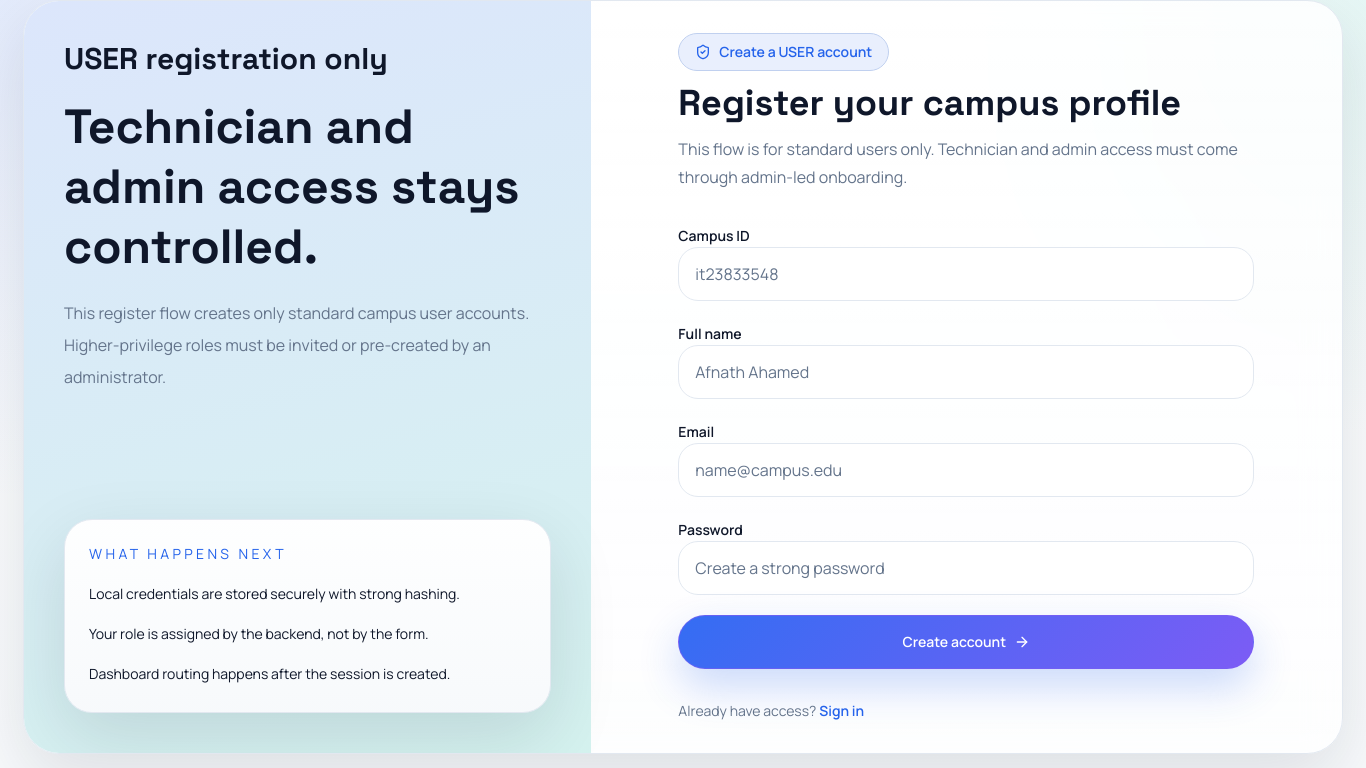
Test: auth pages › blocks weak passwords before register submission
Type "user123" into the field labelled "Campus ID" at (966,274), box [678,247,1254,301]
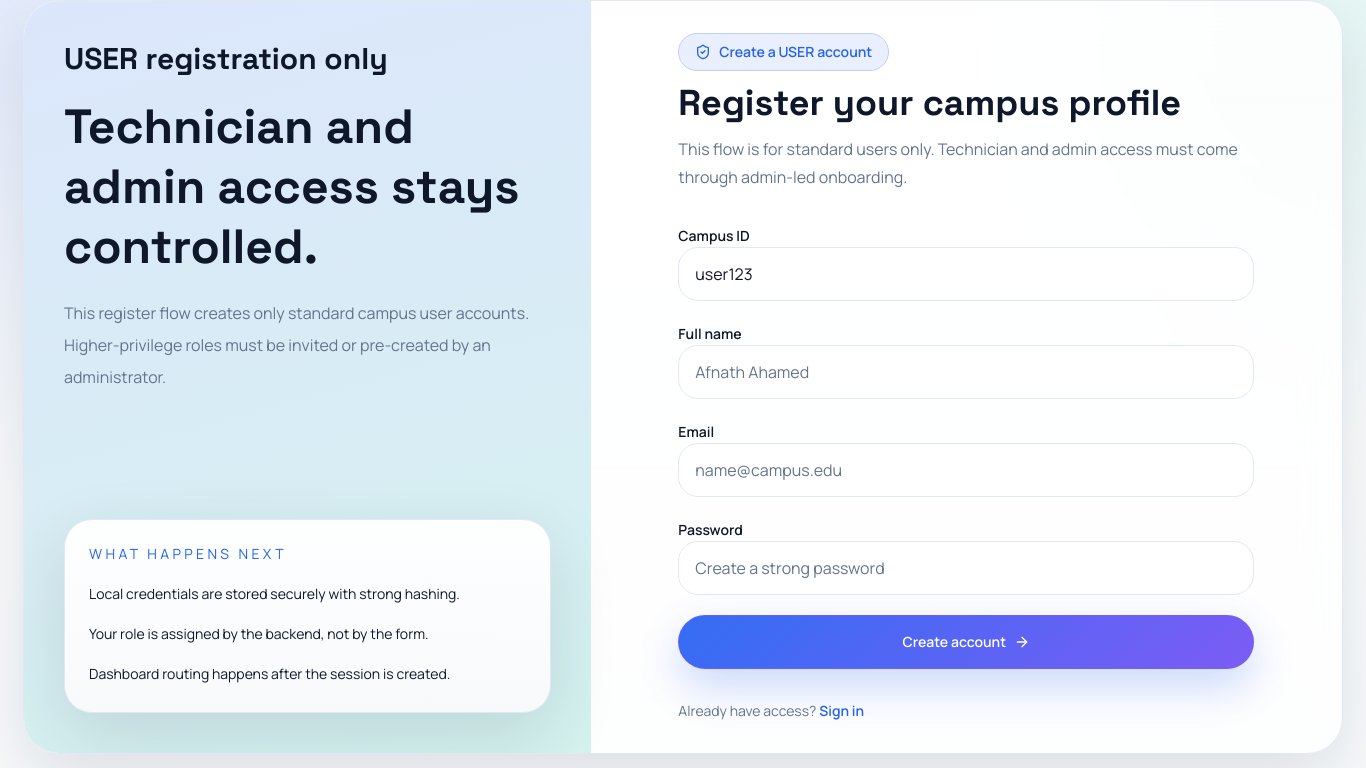
Type "Campus User" into the field labelled "Full name" at (966,372), box [678,345,1254,399]
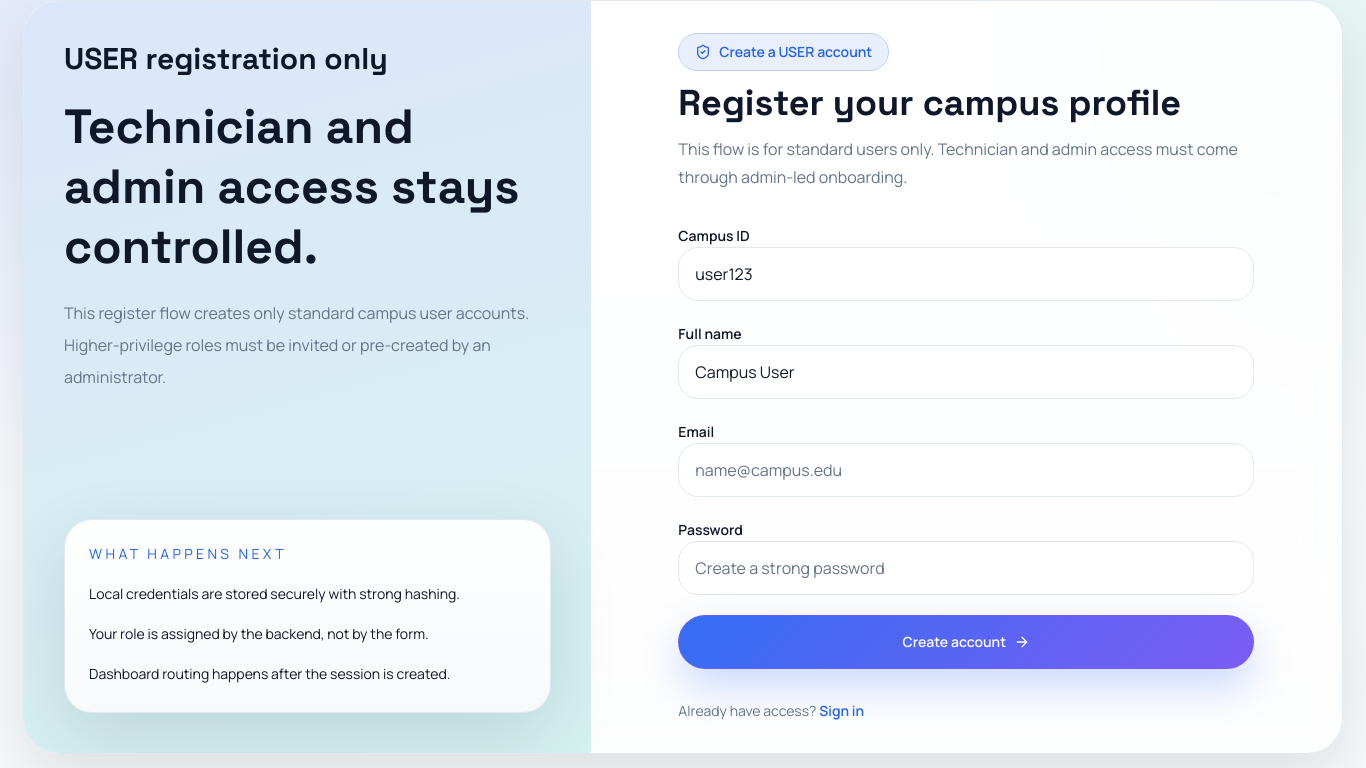
Type "user@campus.edu" into the field labelled "Email" at (966,470), box [678,443,1254,497]
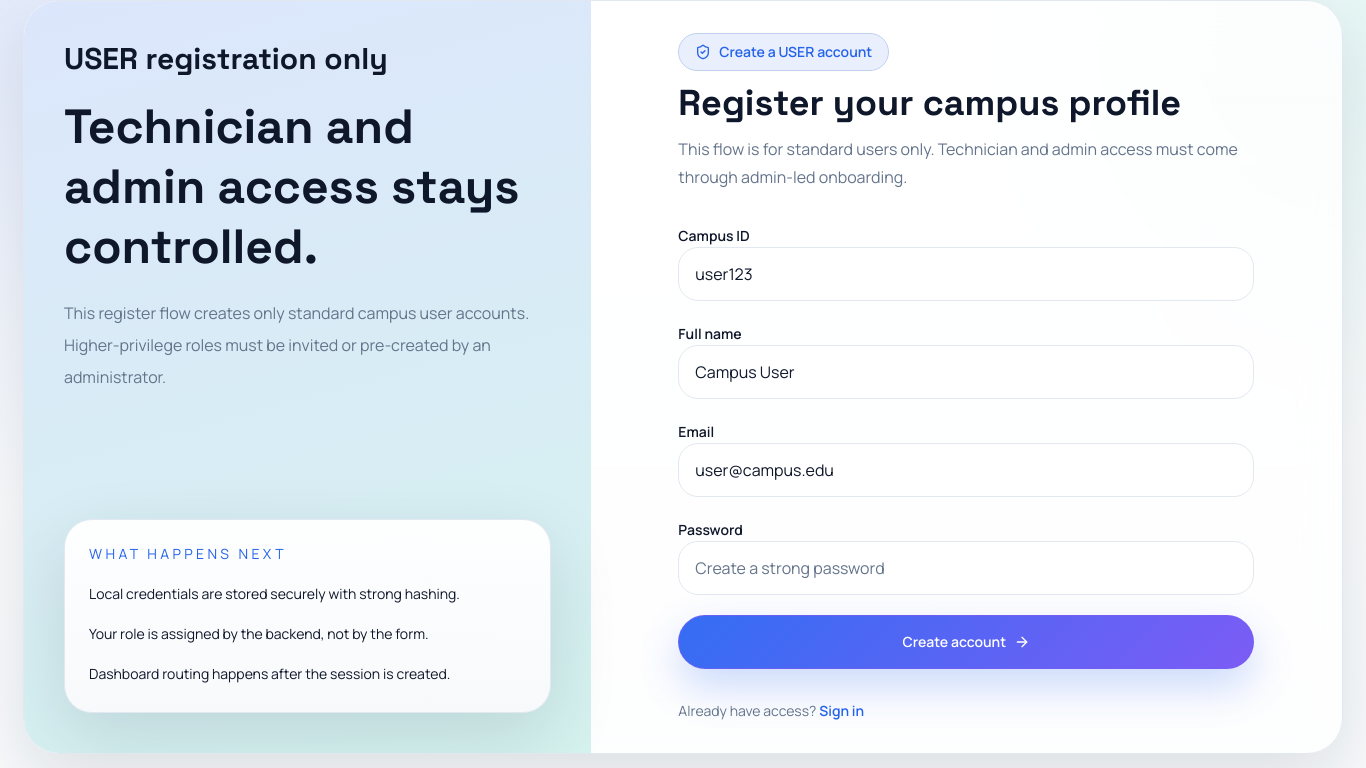
Type "weakpass" into the password field labelled "Password" at (966,568), box [678,541,1254,595]
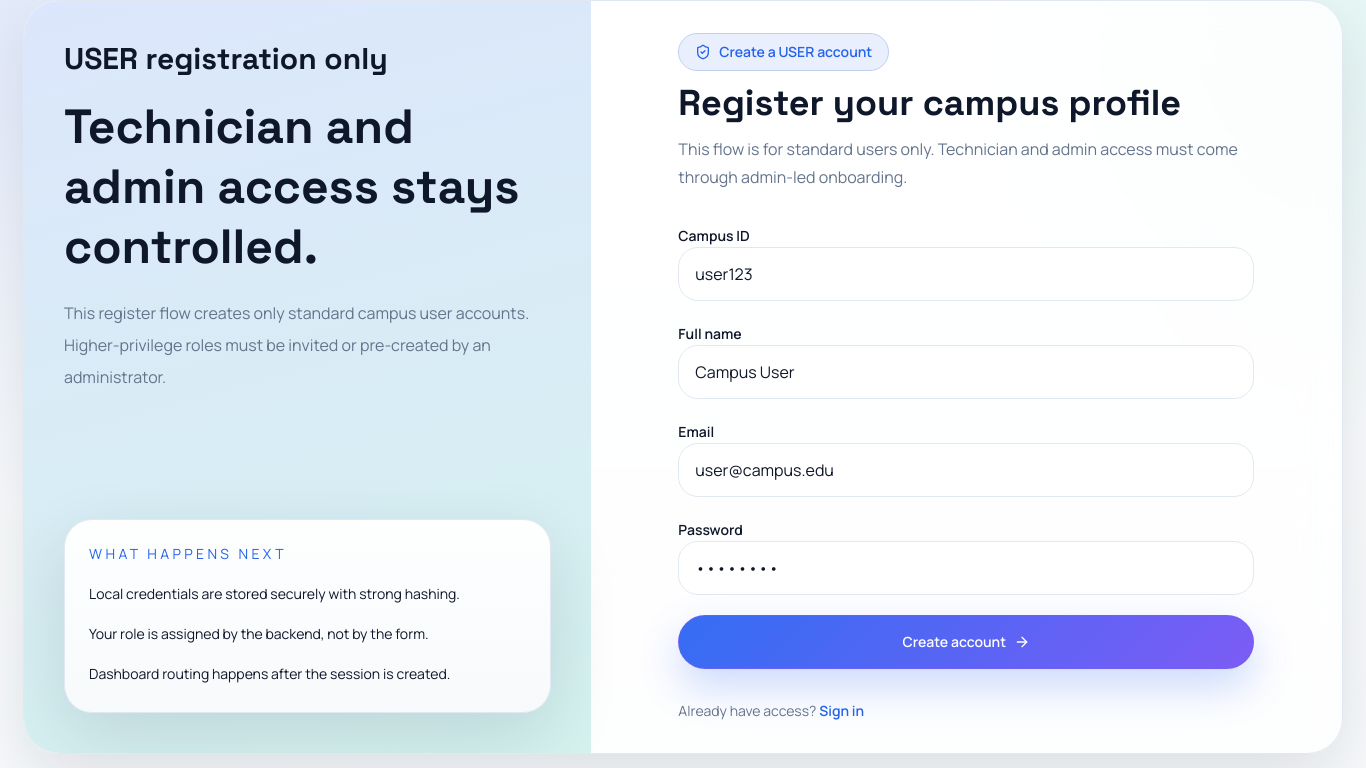
Click the button "Create account" at (966,642), box [678,615,1254,669]
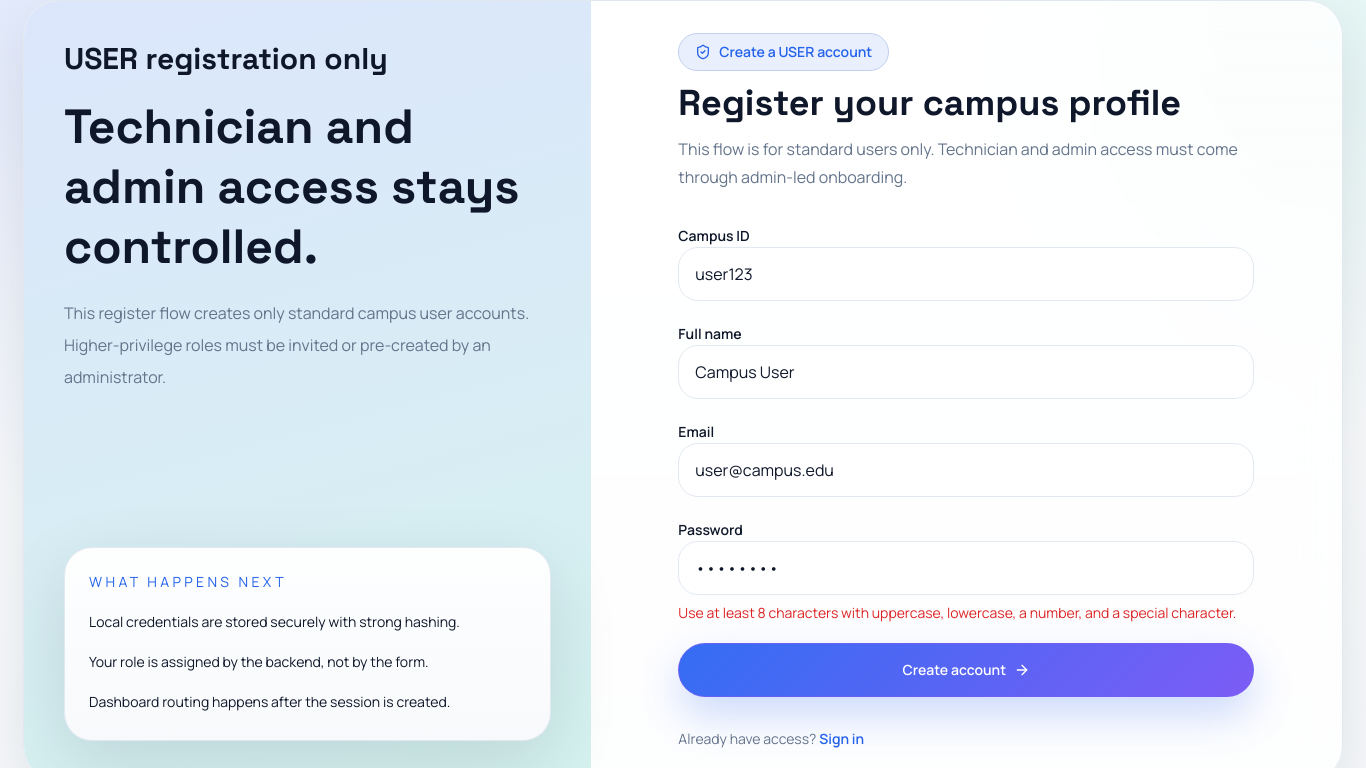
Expected: the text "Use at least 8 characters with uppercase, lowercase, a number, and a special character." is shown, [678,603,1236,622]
